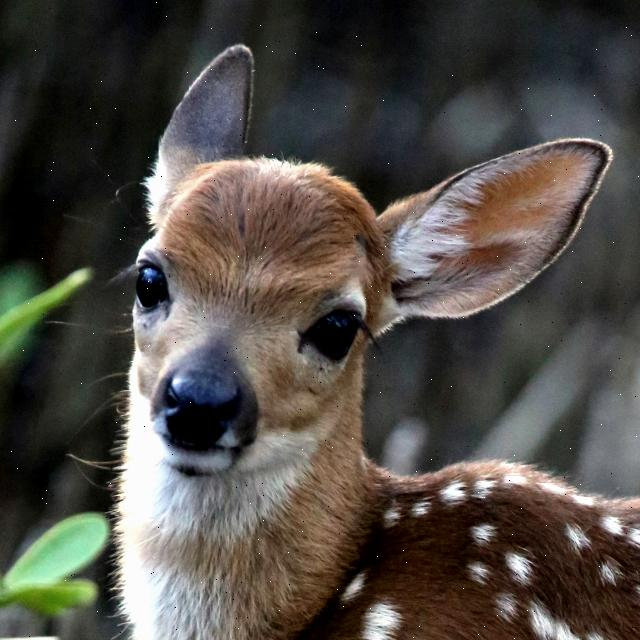deer: (107, 26, 625, 572)
